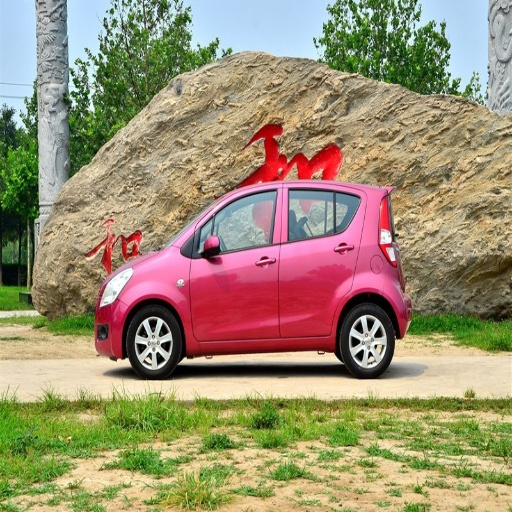back_glass: (168, 65, 272, 112)
back_left_door: (280, 184, 363, 335)
front_left_door: (190, 185, 283, 340)
